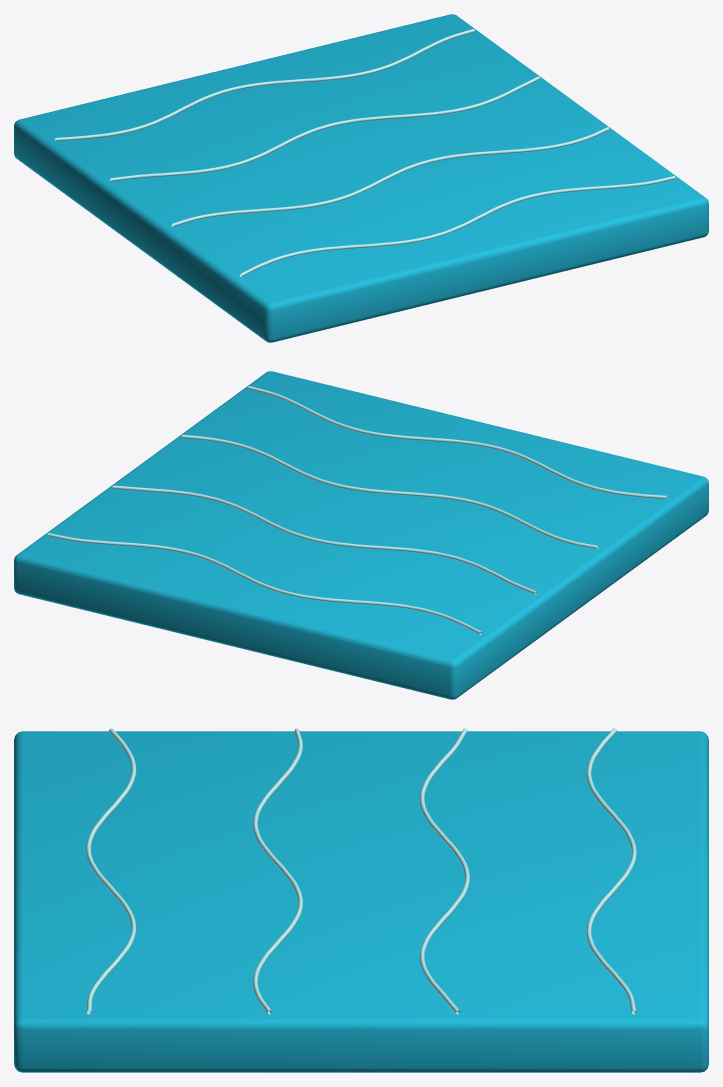
Rendered from water_tile.glb.
3 views of the same model, one above another, from view 1: azimuth 30°, elevation 25°; view 2: azimuth 150°, elevation 25°; view 3: azimuth 270°, elevation 25° (orthographic). The views are drawn at different scales.
Visible parts, largest first — view 1: water_tile; view 2: water_tile; view 3: water_tile.
Boxes of the visible parts, <box> form: water_tile: <box>14,14,708,342</box>; water_tile: <box>14,371,708,699</box>; water_tile: <box>14,728,708,1072</box>.
Bounding box in the file's own units: 2 × 0.189 × 2.
